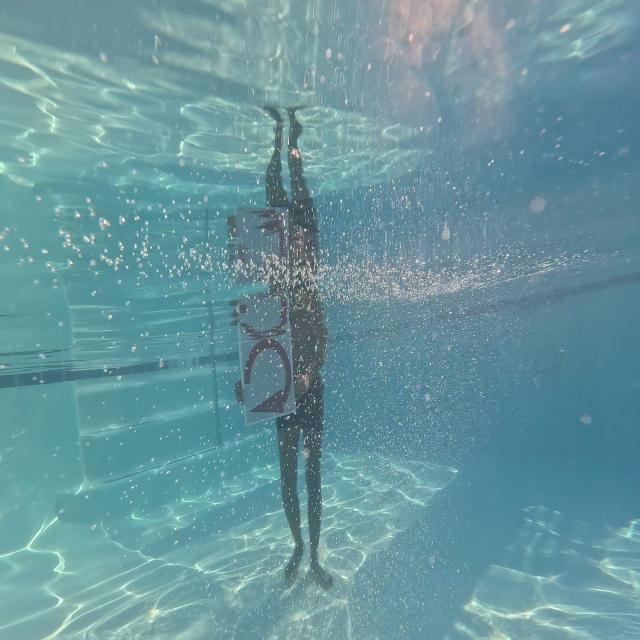red_side: (238, 320, 300, 421)
